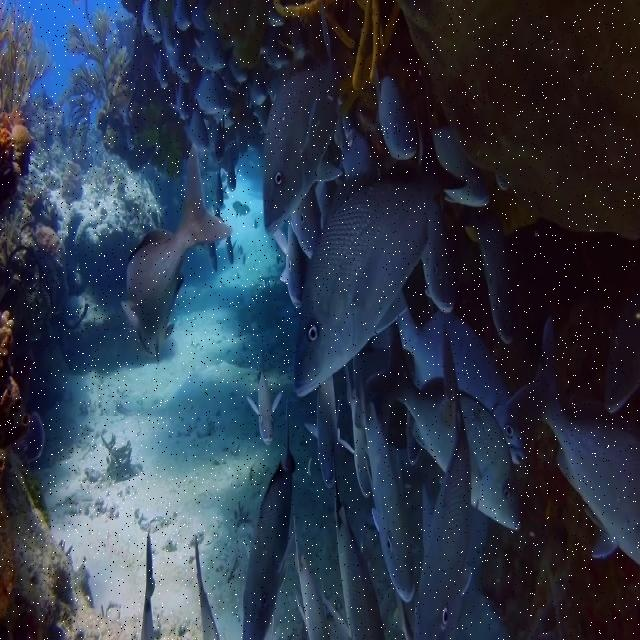aquatic plants: (63, 5, 134, 157), (0, 0, 53, 191)
fish: (510, 317, 639, 564), (295, 178, 437, 398), (124, 0, 307, 170), (118, 147, 235, 364), (263, 11, 355, 234), (415, 321, 476, 638), (364, 322, 451, 473), (243, 405, 297, 639), (449, 314, 529, 471), (363, 378, 417, 605), (464, 388, 522, 537), (333, 490, 384, 639), (475, 211, 522, 347), (302, 381, 355, 488), (435, 127, 494, 212), (422, 193, 457, 317), (293, 522, 330, 639), (400, 311, 445, 385), (380, 77, 418, 164), (194, 537, 221, 638), (247, 364, 281, 444), (140, 535, 157, 639)
